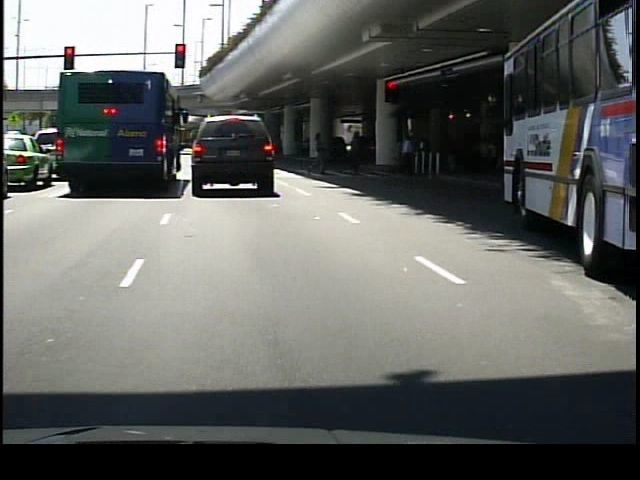person: (348, 128, 370, 183), (309, 126, 331, 176), (397, 131, 417, 176)
